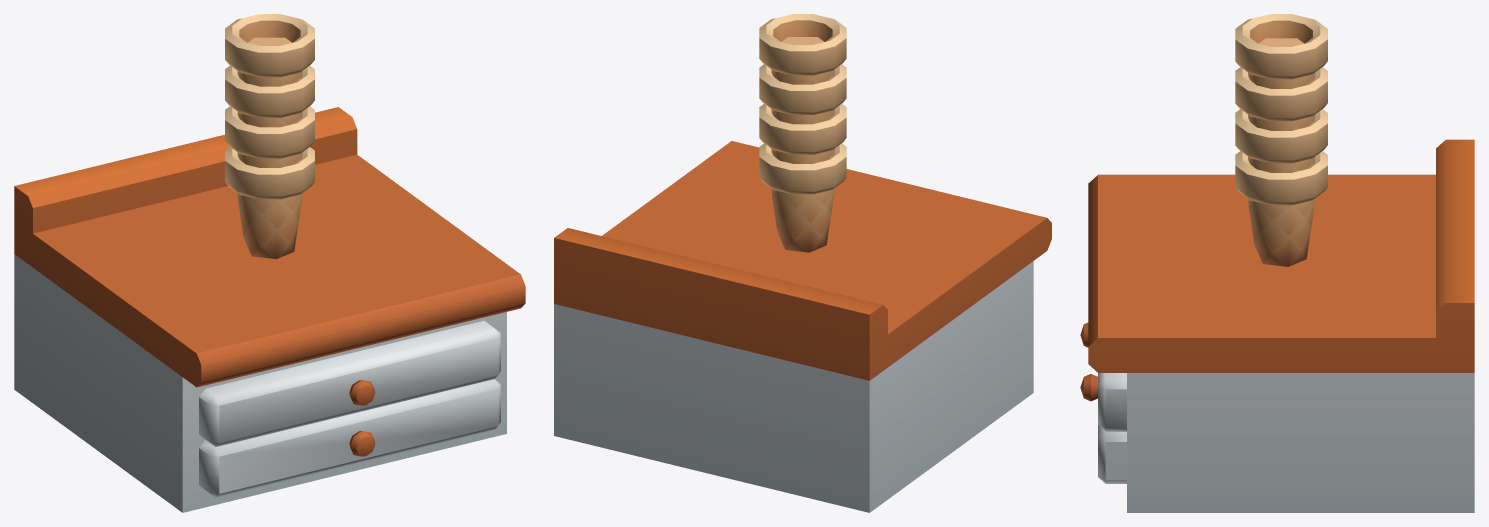
Rendered from cone_counter.glb.
3 renders of one model, left to right at view 1: azimuth 30°, elevation 25°; view 2: azimuth 150°, elevation 25°; view 3: azimuth 270°, elevation 25°, orthographic. The views are drawn at different scales.
Parts seen in each view (by area): view 1: kitchencounter_straight_A_backsplash, icecream_cone_stacked; view 2: kitchencounter_straight_A_backsplash, icecream_cone_stacked; view 3: kitchencounter_straight_A_backsplash, icecream_cone_stacked.
Part boxes in pixels (x1,y1,x2,y2): kitchencounter_straight_A_backsplash: (14,107,525,512); icecream_cone_stacked: (225,14,314,259); kitchencounter_straight_A_backsplash: (554,141,1051,512); icecream_cone_stacked: (759,14,846,252); kitchencounter_straight_A_backsplash: (1080,139,1474,512); icecream_cone_stacked: (1235,14,1327,266).
Size of the model in its own units: 2 by 2.29 by 2.04.
2 materials, 2 textured.
